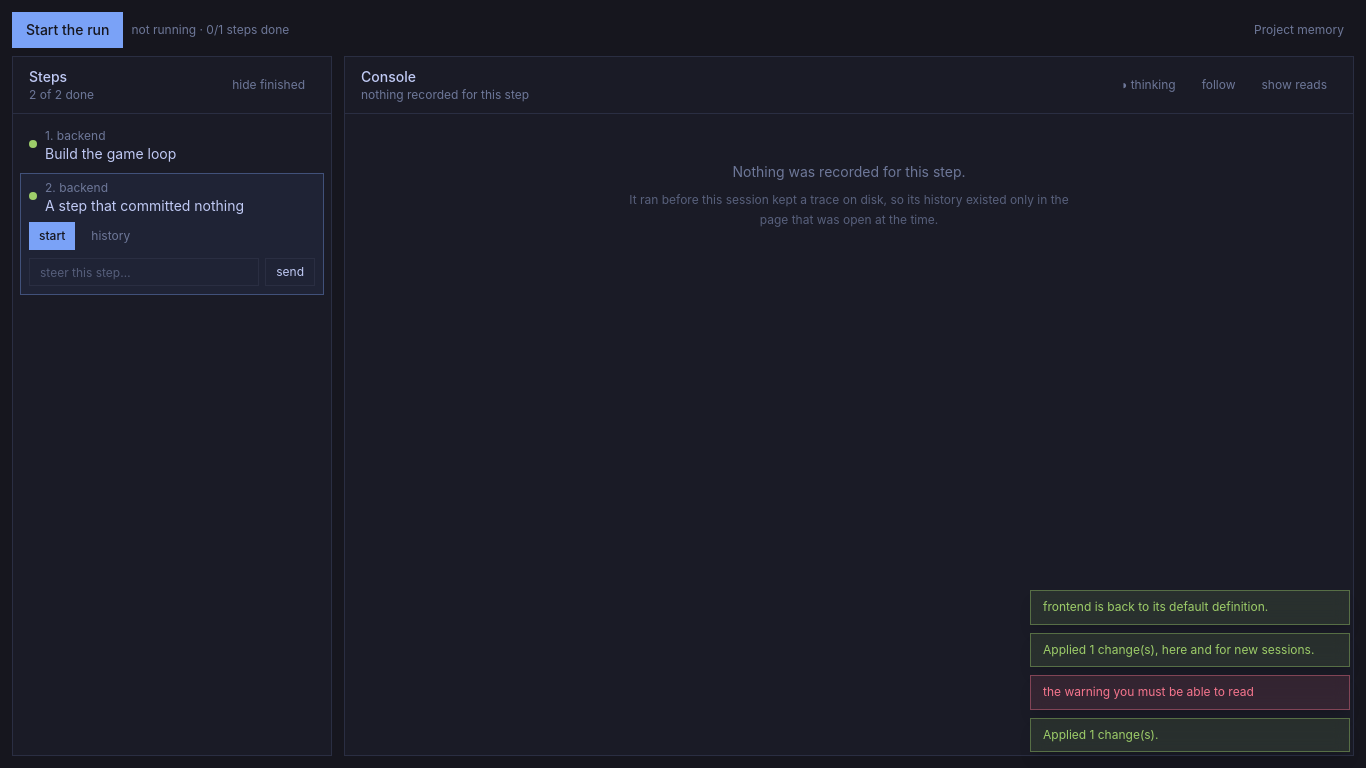
Test case: reverting a step › offers revert only where there are commits, and reports a failure honestly
This screenshot has width=1366, height=768.
Click the text "Build the game loop" at (111, 154), box [45,145,176,162]
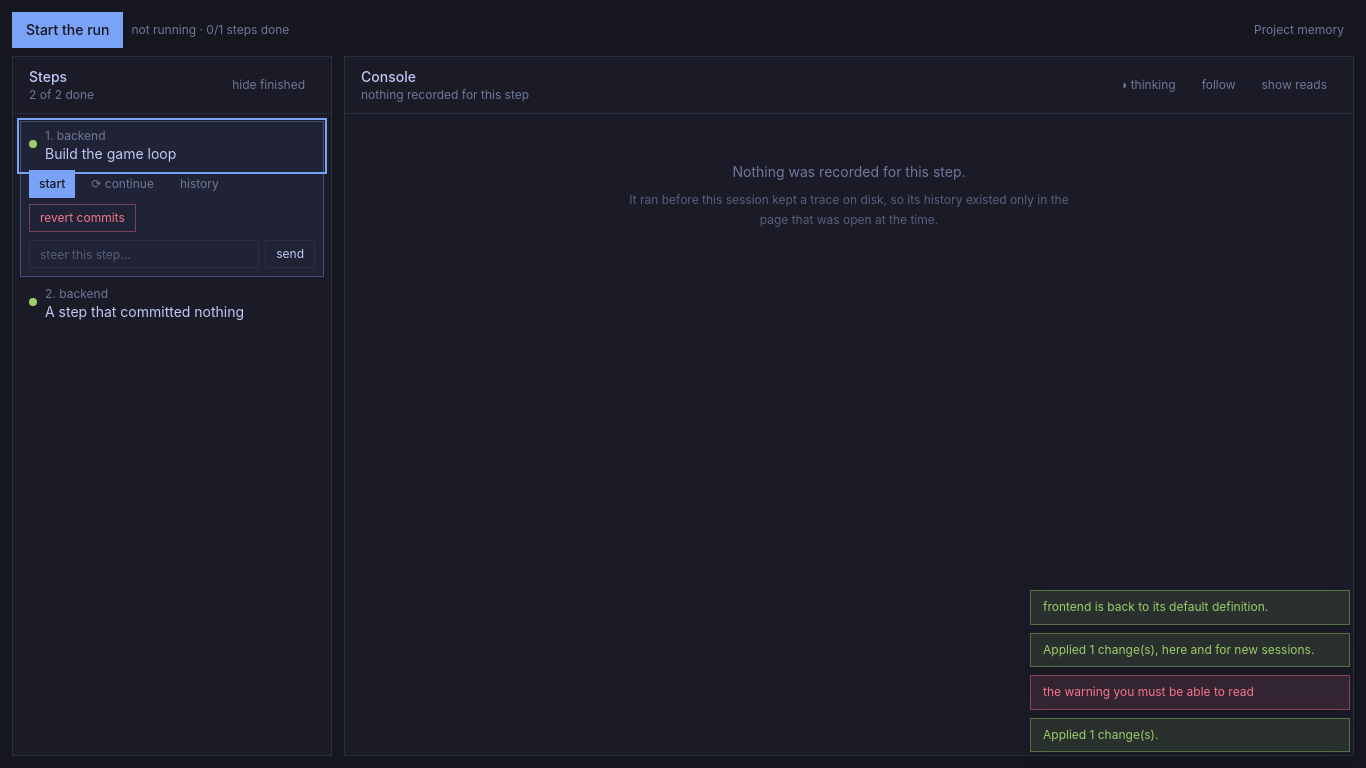
Click the button "revert commits" at (82, 218), box [29,204,136,232]
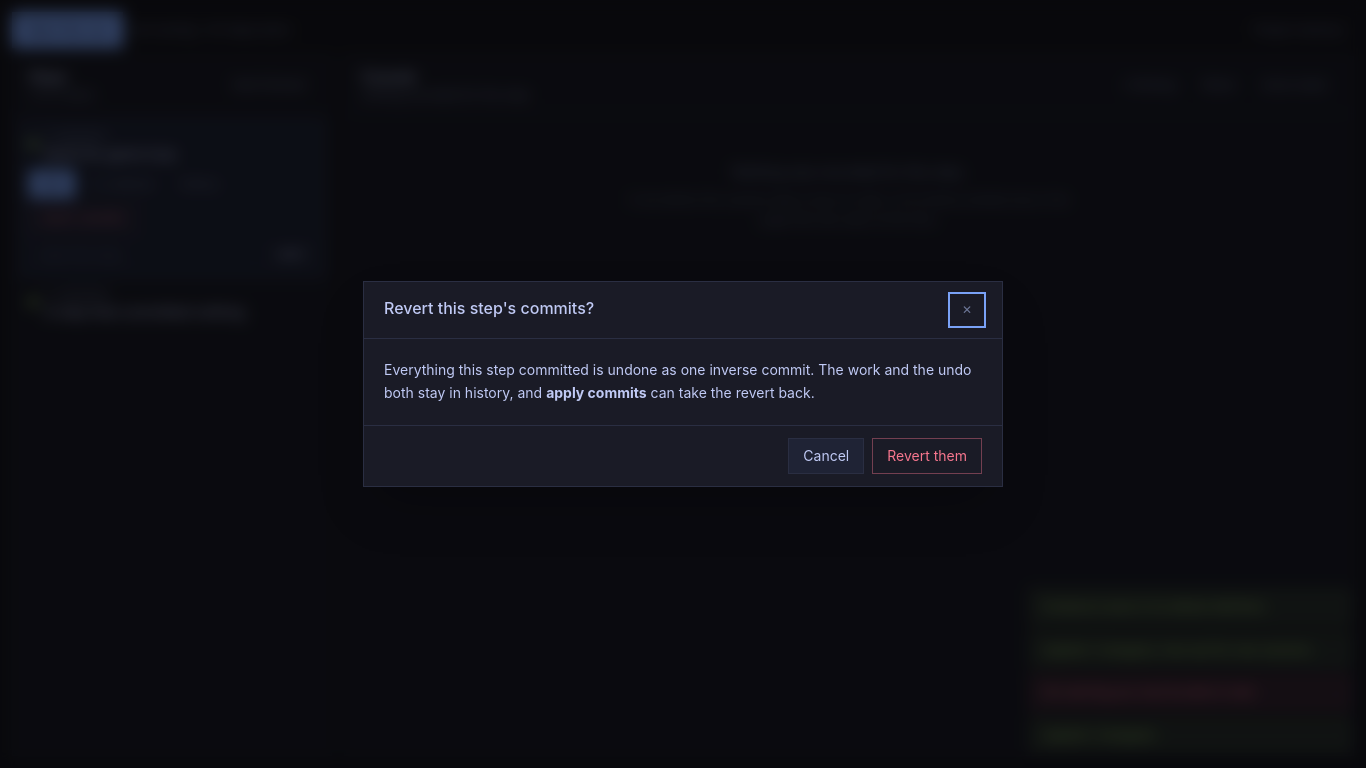
Expected: the text "one inverse commit" is shown, [384,361,972,401]
Click the button "Revert them" at (927, 456), box [872,438,982,474]
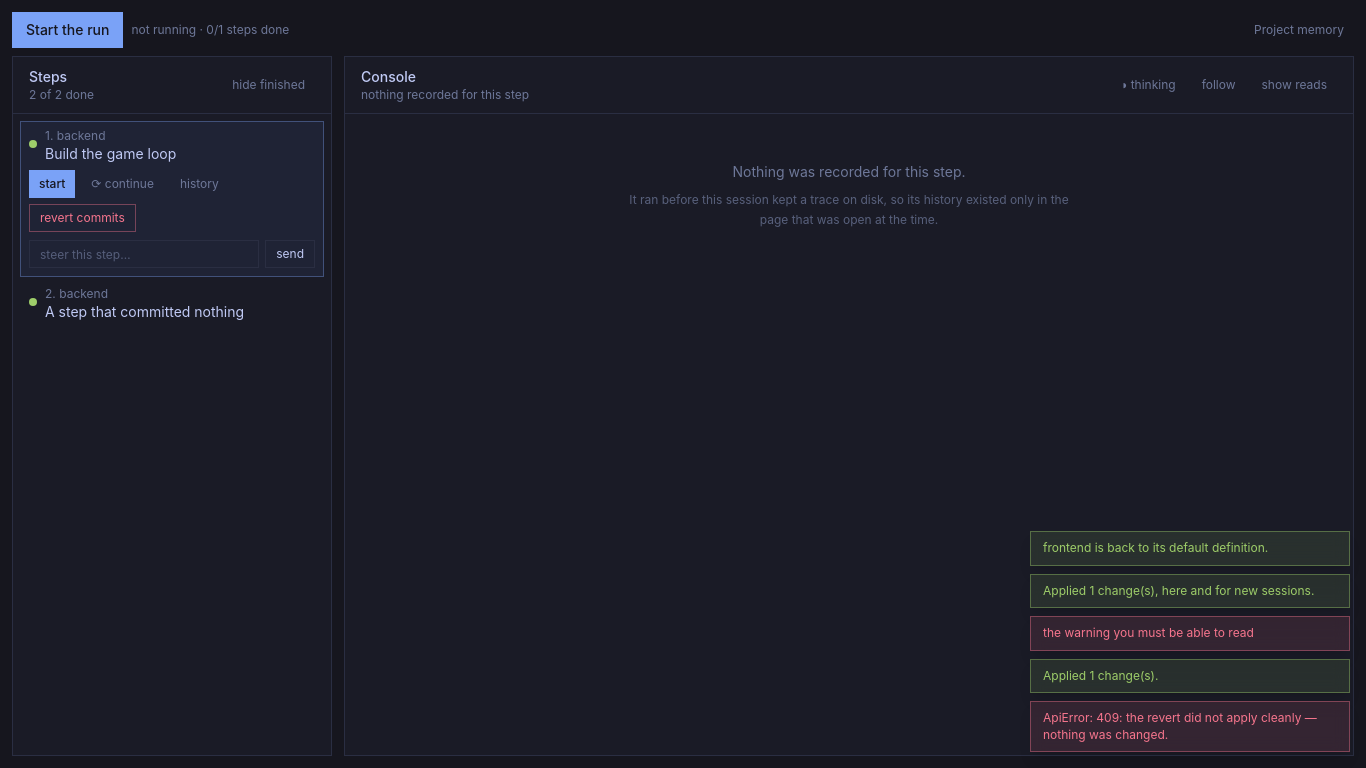
Expected: the button "revert commits" is shown, [29,204,136,232]
Expected: the text "ApiError: 409: the revert did not apply cleanly — nothing was changed." is shown, [1030,701,1350,752]
# A step with no commits never offers it.
Click the text "A step that committed nothing" at (145, 312), box [45,303,244,320]
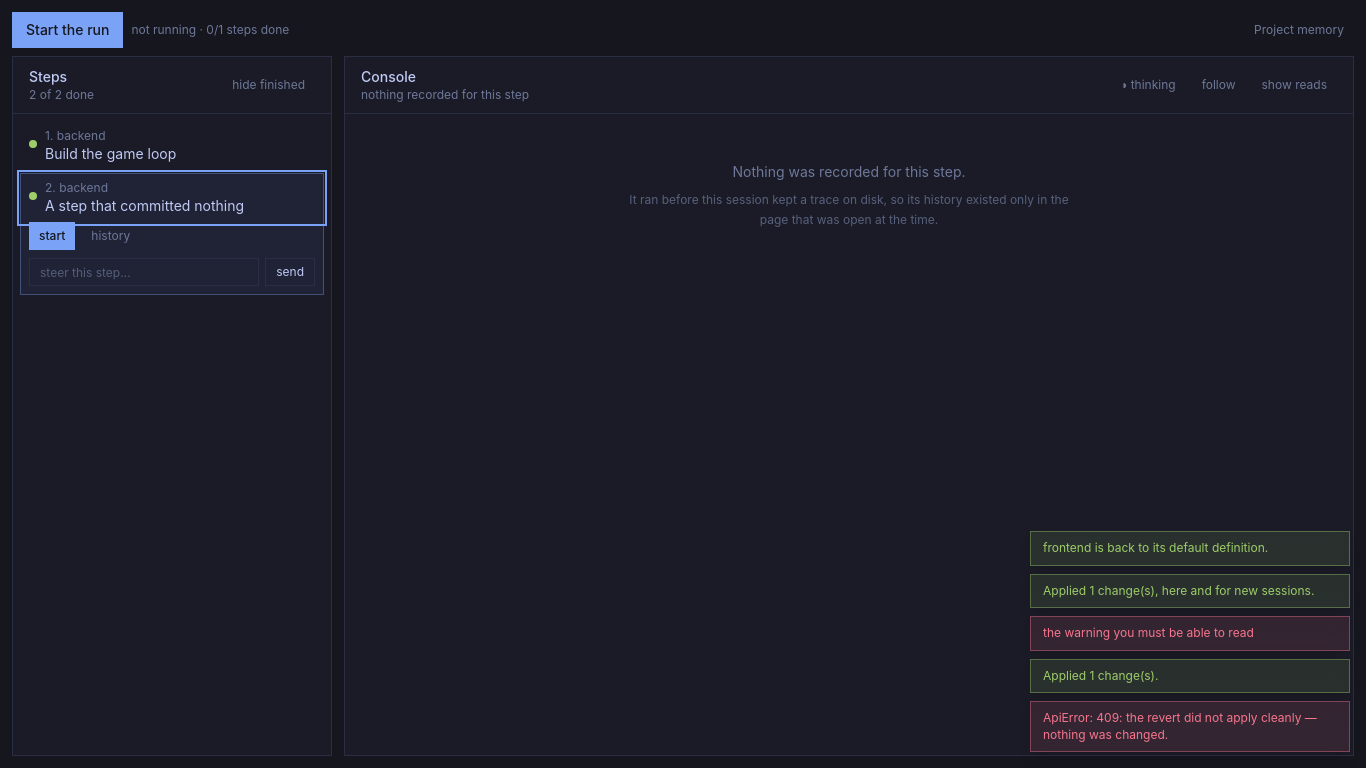
Expected: the button "revert commits" is gone
